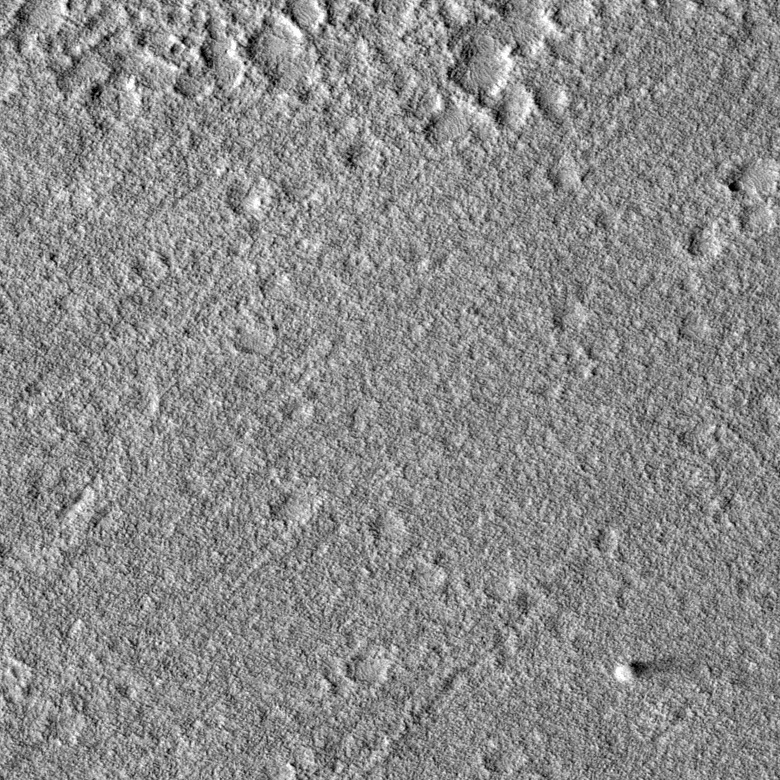dust_devil: (612, 655, 681, 684)
